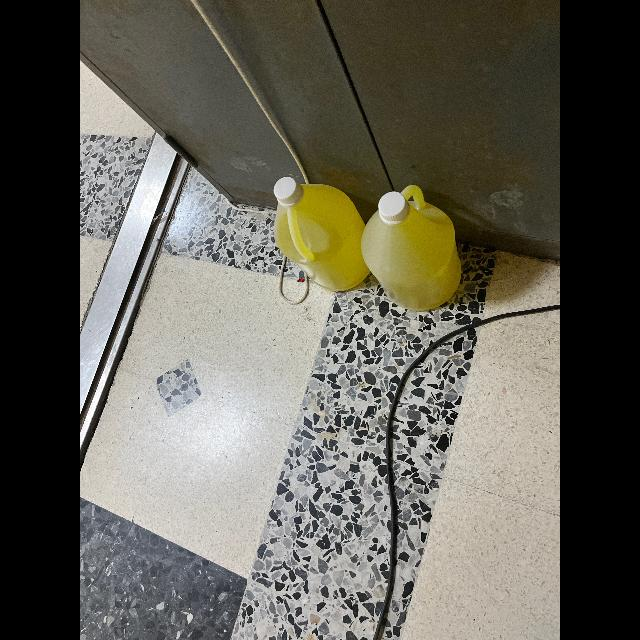chemical_plastic_gallon: (356, 180, 470, 318), (261, 167, 373, 305)
